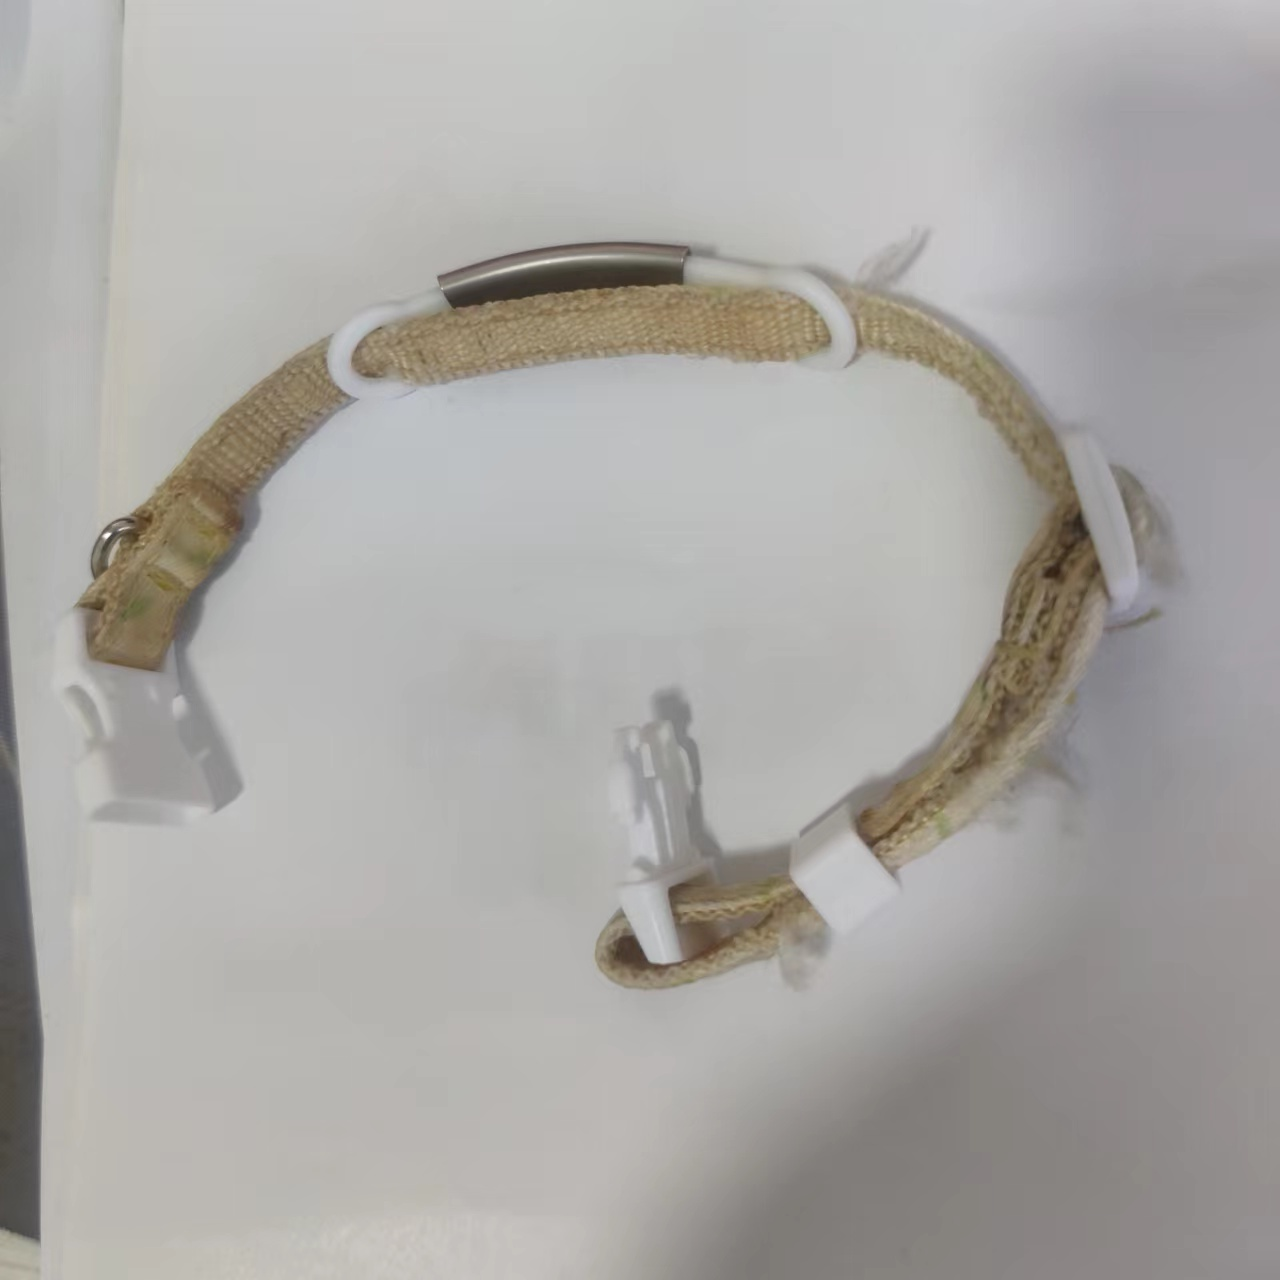9/可回收垃圾/绳子: (48, 240, 1167, 992)
